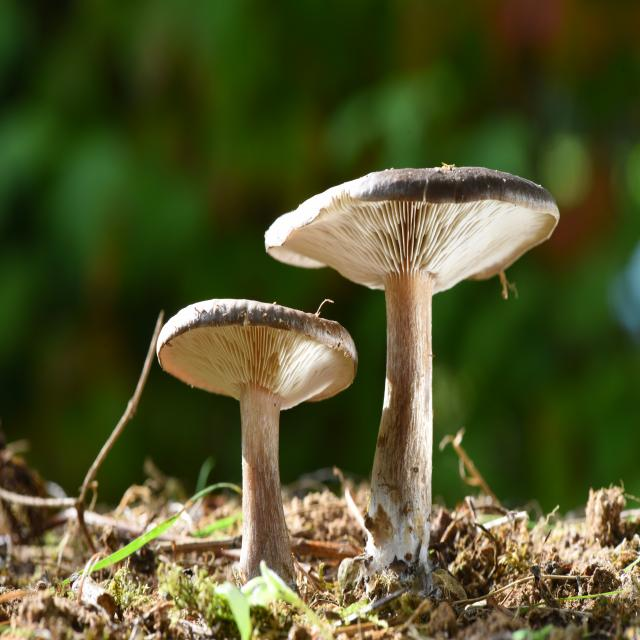Mushroom: (122, 192, 534, 547)
